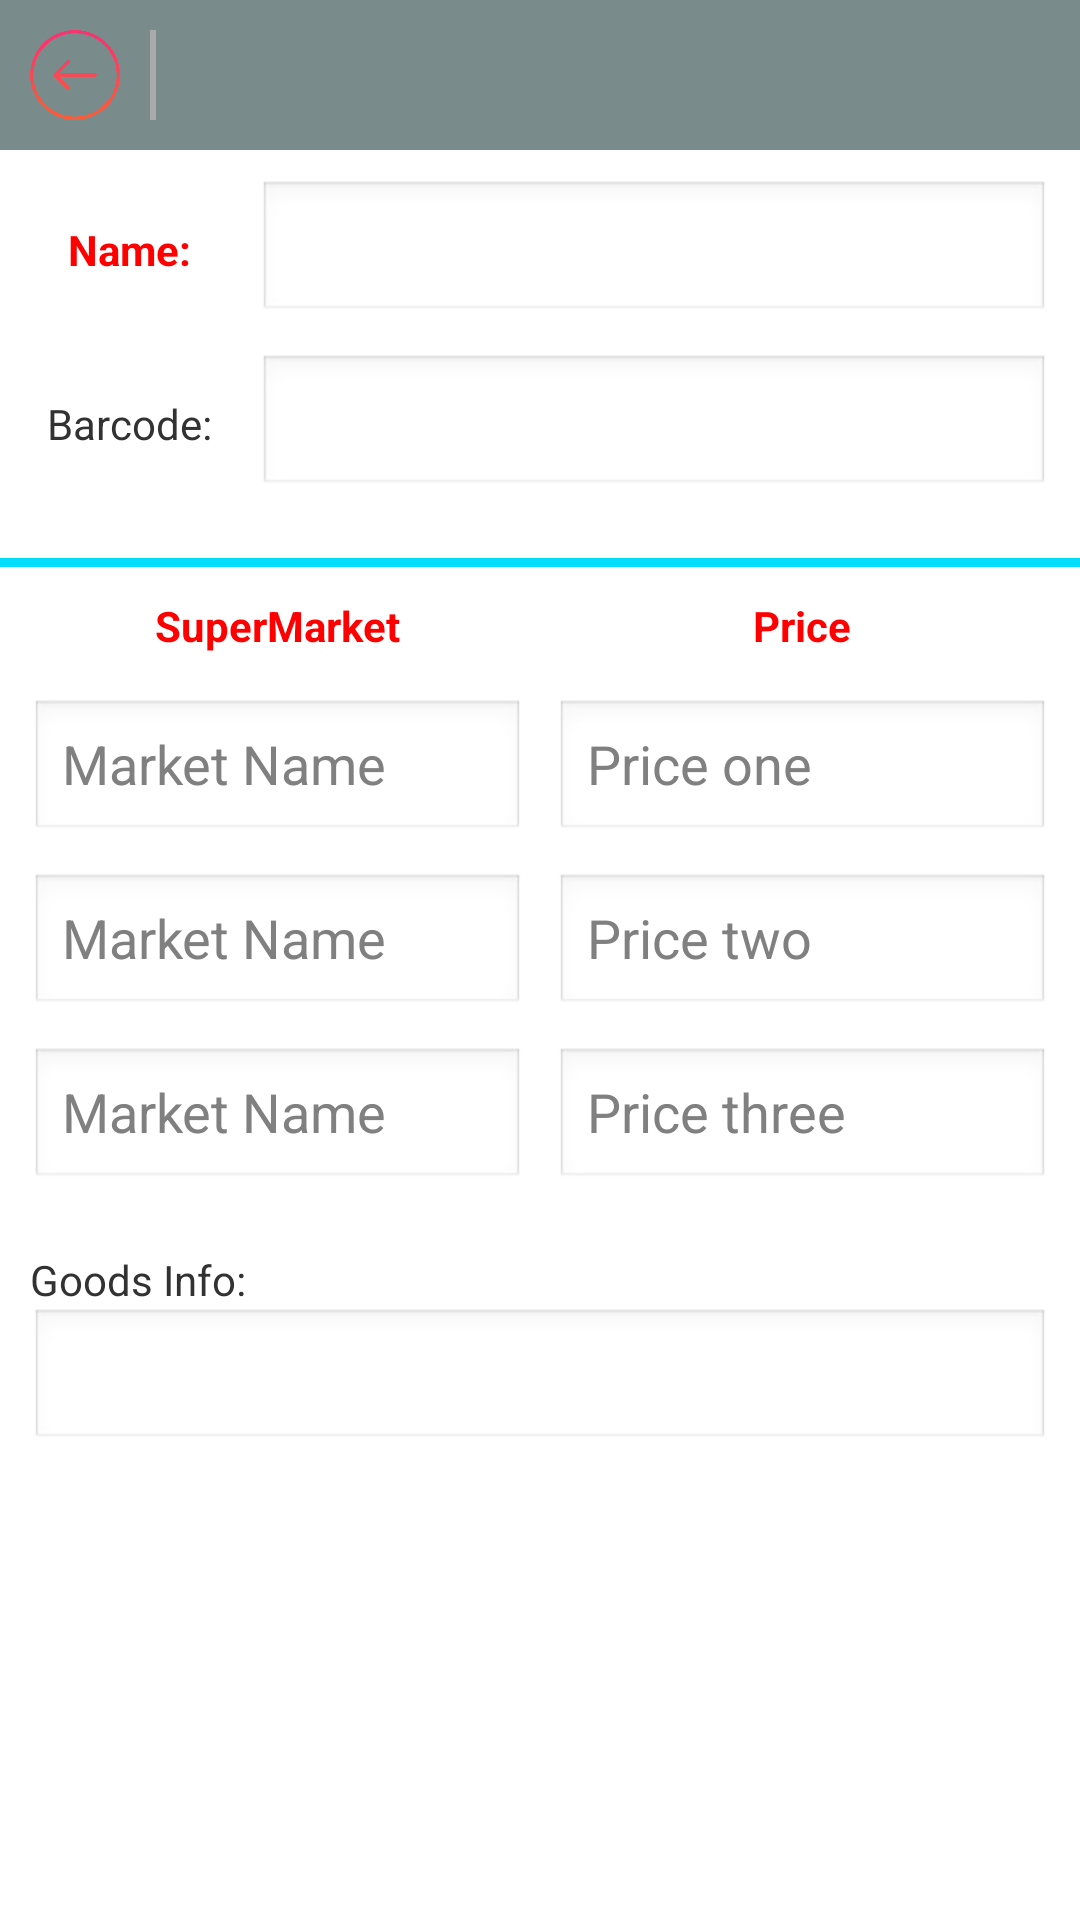

Icons on this 1080w x 1920h Android screen, each with its box as box=[x1, y1, x2, y2]:
return: box=[30, 30, 120, 120]
